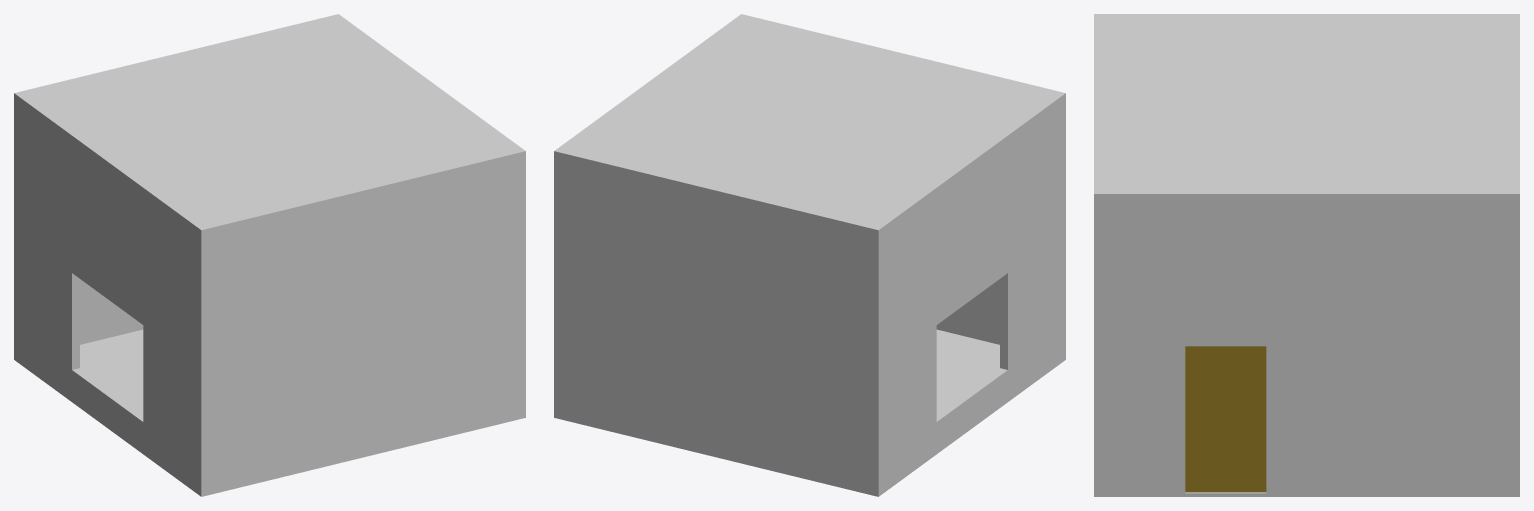
The model's file is Assassin Room.gltf.
3 views of the same model, side by side, from view 1: azimuth 30°, elevation 25°; view 2: azimuth 150°, elevation 25°; view 3: azimuth 270°, elevation 25° (orthographic). The views are drawn at different scales.
Parts seen in each view (by area): view 1: Room; view 2: Room; view 3: Room, Door.
Part boxes in pixels (left/top/right/bottom): Room: left=14, top=14, right=525, bottom=496; Room: left=554, top=14, right=1065, bottom=496; Room: left=1094, top=14, right=1519, bottom=496; Door: left=1185, top=346, right=1266, bottom=492.
Size of the model in its own units: 5.25 by 4.13 by 5.25.
